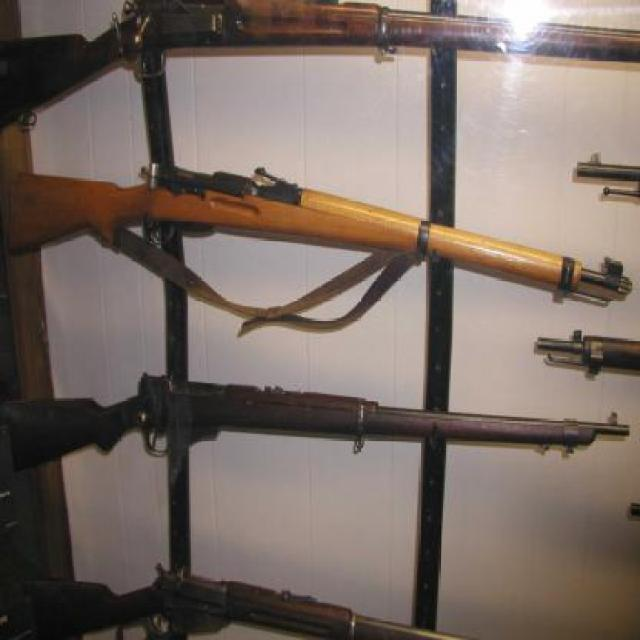weapon: (9, 164, 632, 310), (9, 374, 618, 501), (1, 0, 640, 120), (35, 569, 487, 640)
